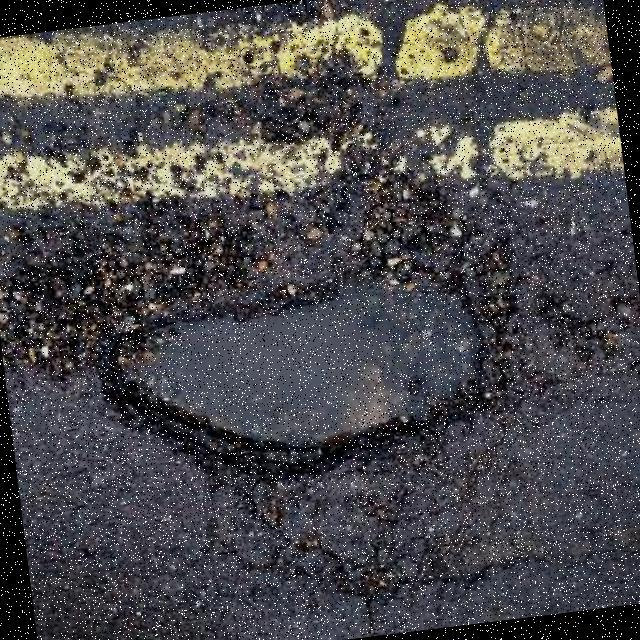Pothole: (102, 256, 497, 487)
